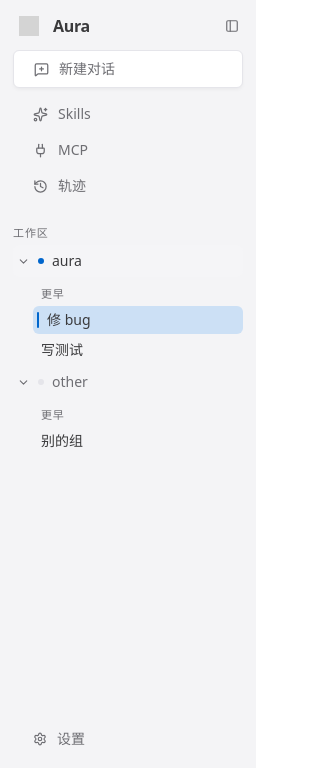
Test: Sidebar › 侧边栏宽度带过渡动画
The width and height of the screenshot is (320, 768).
Click the button named "收起侧边栏": (232, 26) [221,14,243,36]
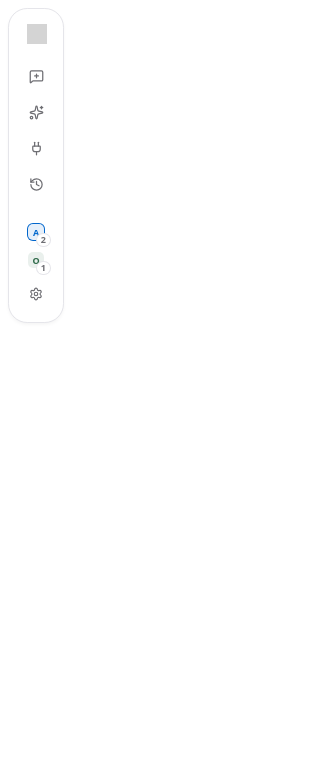
Result: the element showing "A 2 O 1" has class "w-14" at [8,8,64,323]
Result: the element showing "A 2 O 1" has class "min-h-0" at [8,8,64,323]
